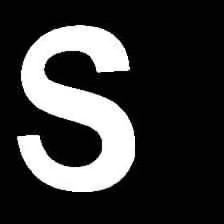LTR_S: (1, 18, 144, 196)
